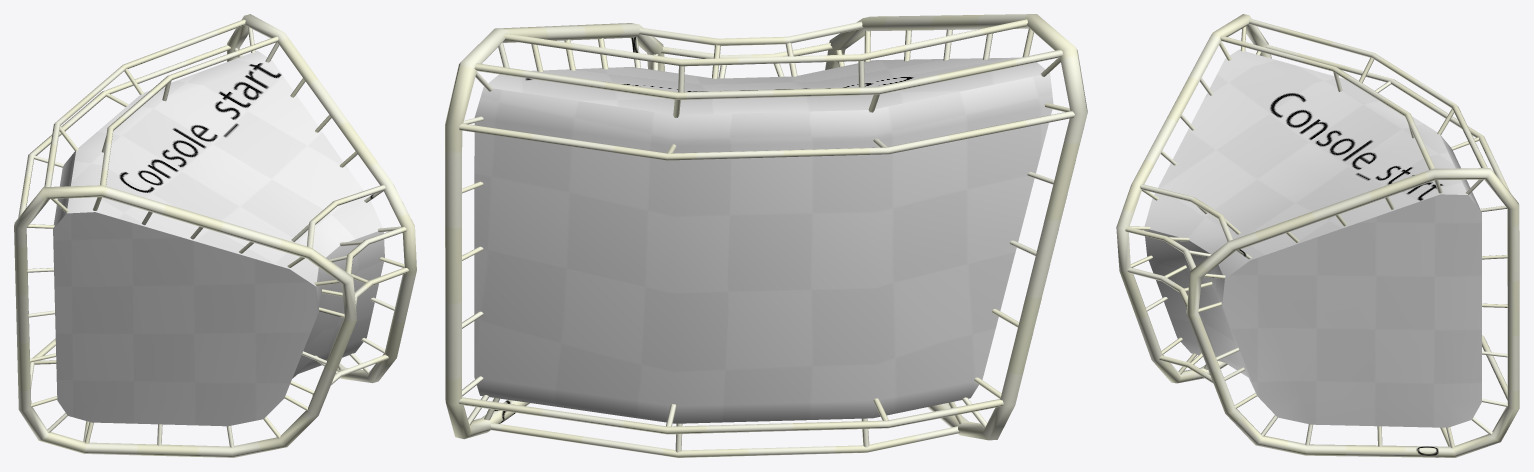
File: console_start.fbx
The picture shows the model from 3 angles, left to right: view 1: azimuth 30°, elevation 25°; view 2: azimuth 150°, elevation 25°; view 3: azimuth 270°, elevation 25°; orthographic projection. The views are drawn at different scales.
Parts seen in each view (by area): view 1: console_start; view 2: console_start; view 3: console_start.
Boxes of the visible parts, <box> form: console_start: <box>14,14,416,457</box>; console_start: <box>445,14,1087,457</box>; console_start: <box>1116,14,1519,457</box>.
Size of the model in its own units: 184 by 142 by 181.
